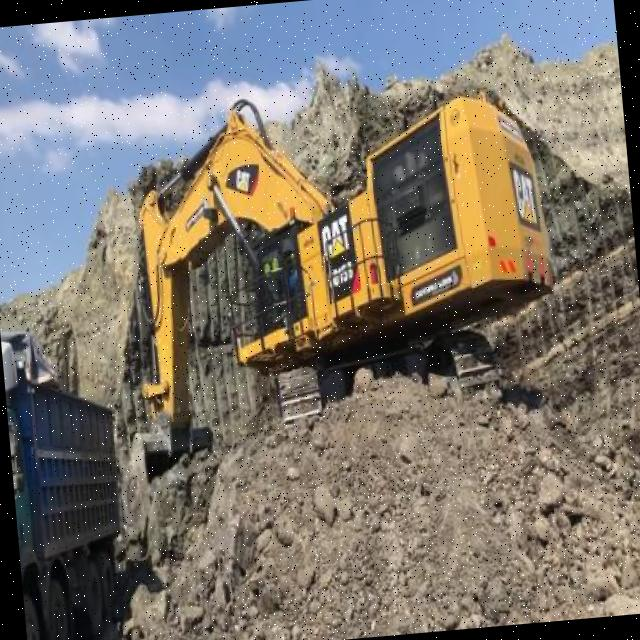Dump Truck: (0, 321, 130, 640)
Excavator: (103, 74, 568, 488)
